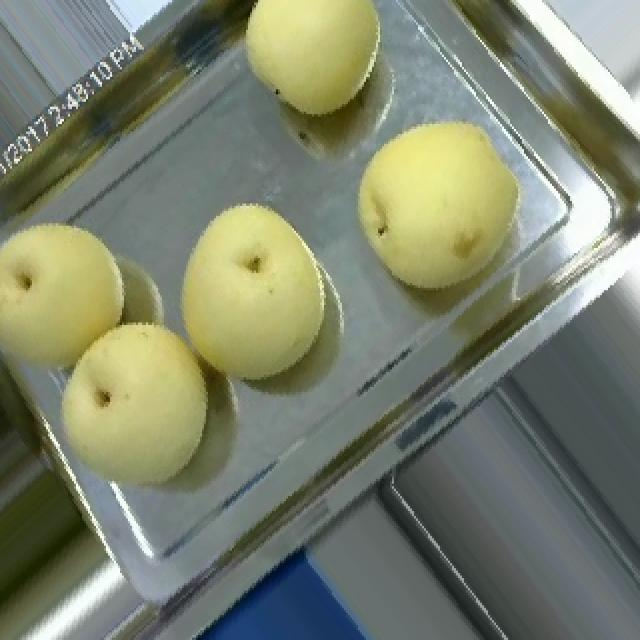Fruit: (22, 293, 240, 526), (332, 99, 544, 308), (158, 183, 348, 407), (0, 198, 148, 407), (224, 0, 396, 131)
